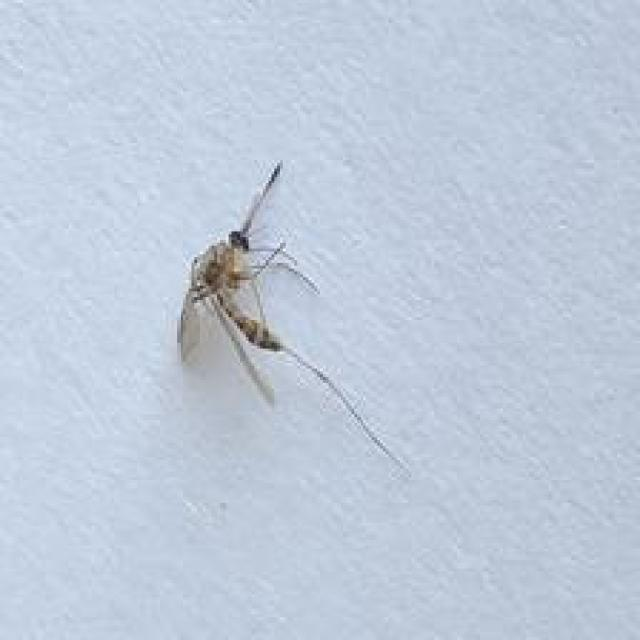Culex: (175, 158, 412, 482)
